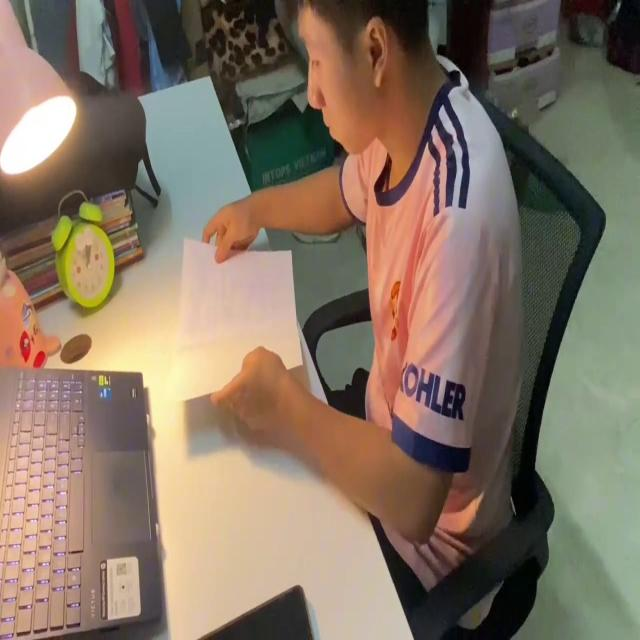book: (171, 212, 302, 416)
laptop: (0, 359, 164, 640)
phone: (188, 579, 314, 640)
student: (194, 0, 530, 583)
